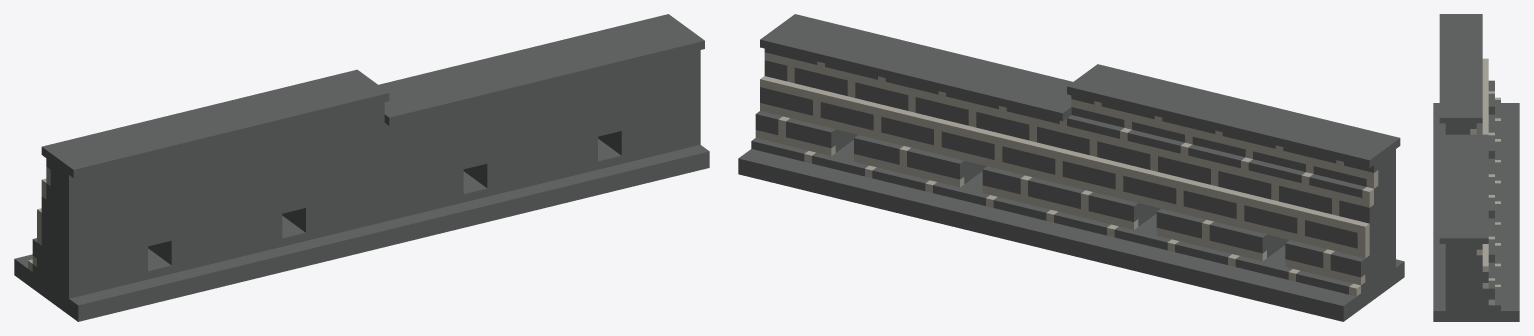
The picture shows the model from 3 angles, left to right: view 1: azimuth 30°, elevation 25°; view 2: azimuth 150°, elevation 25°; view 3: azimuth 270°, elevation 25°; orthographic projection. The views are drawn at different scales.
Visible parts, largest first — view 1: 挡墙转角高差与端头族; view 2: 挡墙转角高差与端头族; view 3: 挡墙转角高差与端头族.
Boxes of the visible parts, x1,y1,x2,y2 form: 挡墙转角高差与端头族: (14,14,709,321); 挡墙转角高差与端头族: (738,14,1404,321); 挡墙转角高差与端头族: (1433,14,1519,321).
Bounding box in the file's own units: 16 × 3.6 × 2.8.
Materials: 2 (2 with a texture image).
